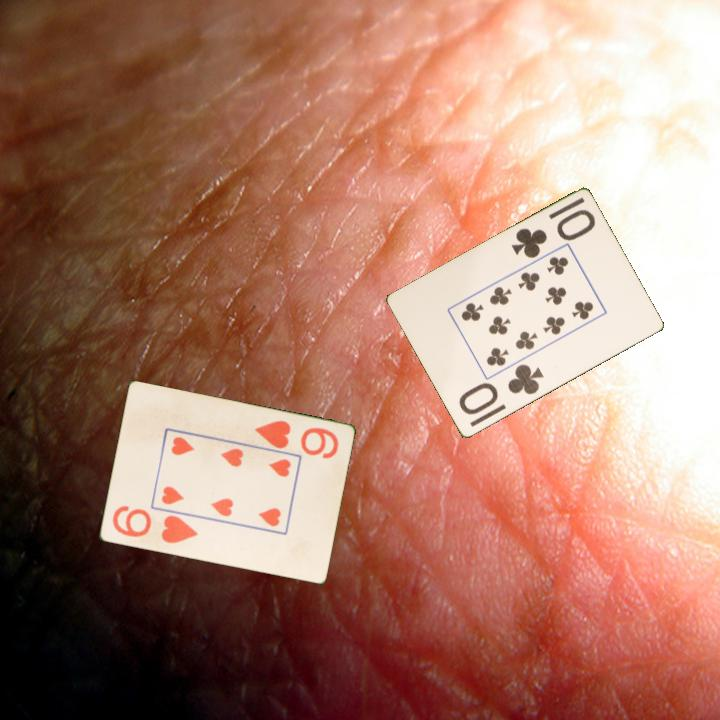10c: (455, 361, 546, 418), (507, 206, 598, 262)
6h: (108, 502, 201, 547), (251, 417, 341, 462)
